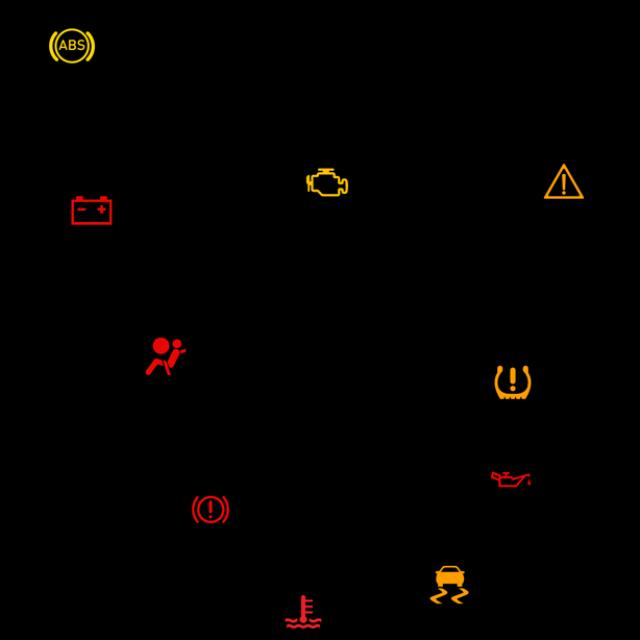Anti Lock Braking System: (47, 20, 97, 70)
Braking System Issue: (186, 484, 236, 534)
Charging System Issue: (66, 184, 116, 234)
Check Engine: (302, 156, 352, 206)
Electronic Stability Problem -ESP-: (424, 558, 474, 608)
Engine Overheating Warning Light: (278, 586, 328, 636)
Low Engine Oil Warning Light: (486, 454, 536, 504)
Low Tire Pressure Warning Light: (488, 356, 538, 406)
Master warning light: (539, 156, 589, 206)
SRS-Airbag: (140, 330, 190, 380)
